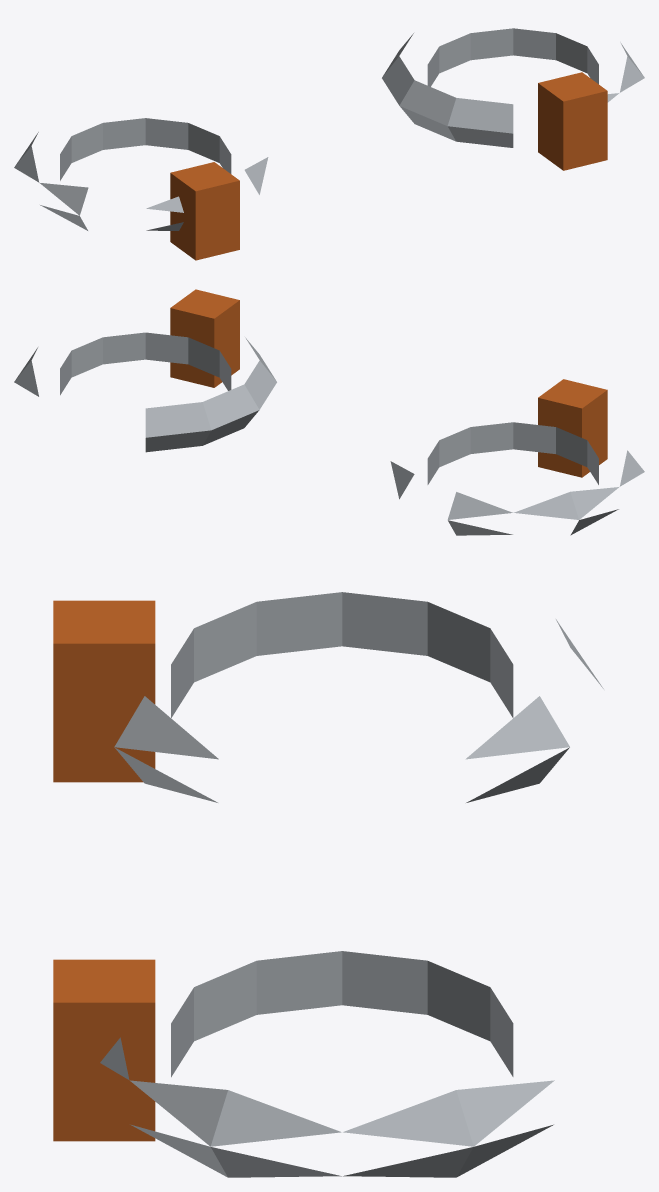
The model's file is binders.lod.glb.
The picture shows the model from 3 angles, top to bottom: view 1: azimuth 30°, elevation 25°; view 2: azimuth 150°, elevation 25°; view 3: azimuth 270°, elevation 25°; orthographic projection. The views are drawn at different scales.
Visible parts, largest first — view 1: m; view 2: m; view 3: m.
Boxes of the visible parts, x1,y1,x2,y2 form: m: (14,28,644,260); m: (14,289,644,535); m: (53,592,603,1177).
Size of the model in its own units: 0.1364 by 0.0156 by 0.0562.
